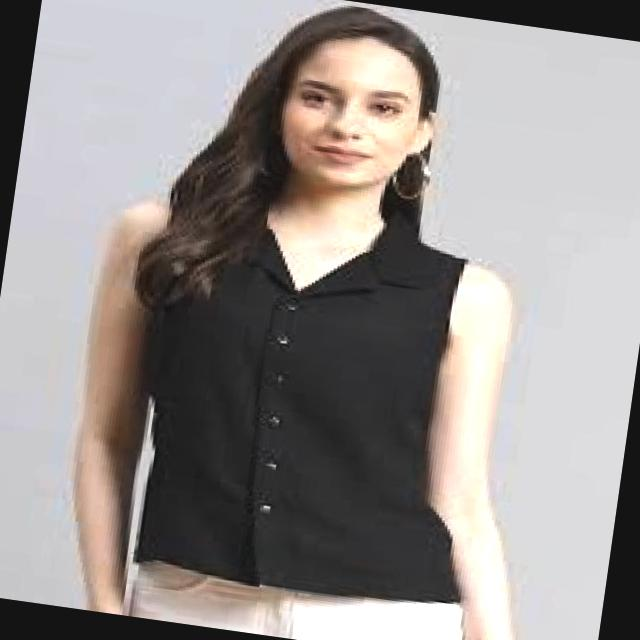no_vest: (116, 178, 512, 615)
